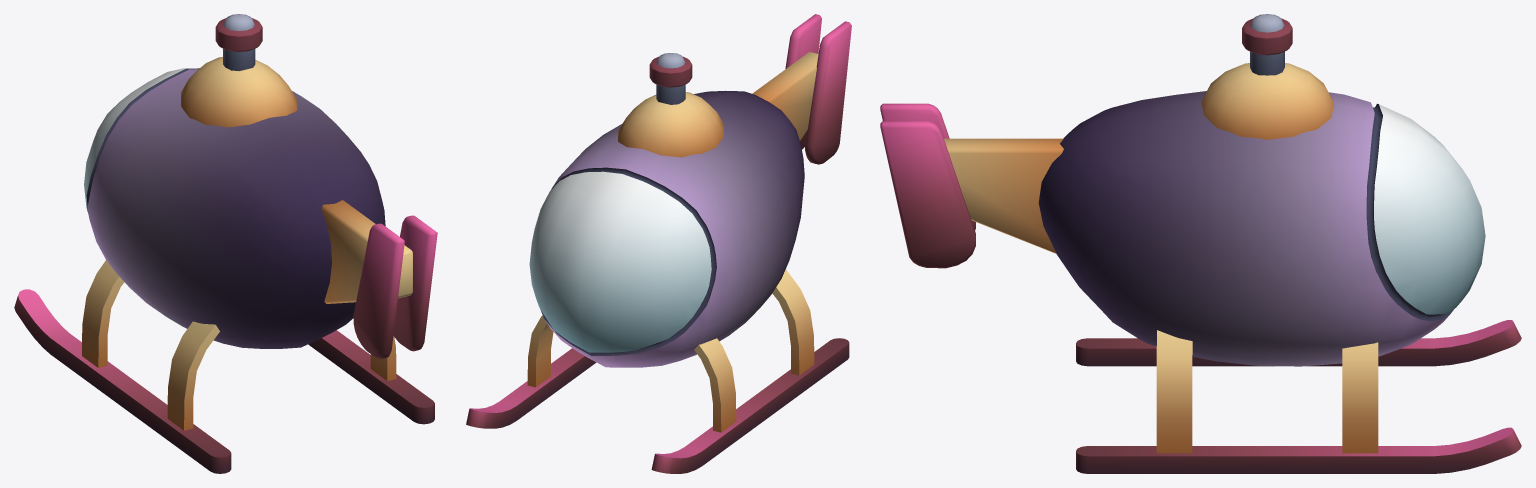
Rendered from SM_Helicopter.fbx.
3 renders of one model, left to right at view 1: azimuth 30°, elevation 25°; view 2: azimuth 150°, elevation 25°; view 3: azimuth 270°, elevation 25°, orthographic. The views are drawn at different scales.
Visible parts, largest first — view 1: SM_Helicopter; view 2: SM_Helicopter; view 3: SM_Helicopter.
Boxes of the visible parts, x1,y1,x2,y2 form: SM_Helicopter: [14, 14, 437, 473]; SM_Helicopter: [466, 14, 851, 473]; SM_Helicopter: [880, 14, 1521, 473].
Size of the model in its own units: 47.01 by 73.87 by 108.
